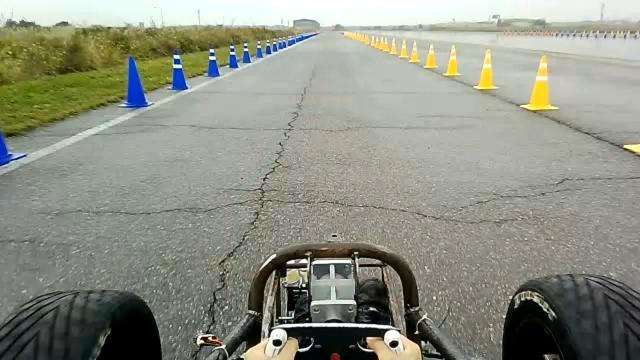blue cone: (118, 55, 154, 108), (167, 49, 190, 90), (204, 43, 221, 77), (228, 41, 239, 68), (241, 41, 252, 63), (255, 40, 264, 58), (265, 39, 272, 54), (271, 40, 278, 53)
yellow cone: (520, 55, 559, 111), (473, 48, 499, 90), (443, 44, 461, 77), (423, 43, 438, 69), (409, 40, 420, 63), (399, 39, 409, 59), (380, 36, 389, 51), (390, 37, 397, 55)
